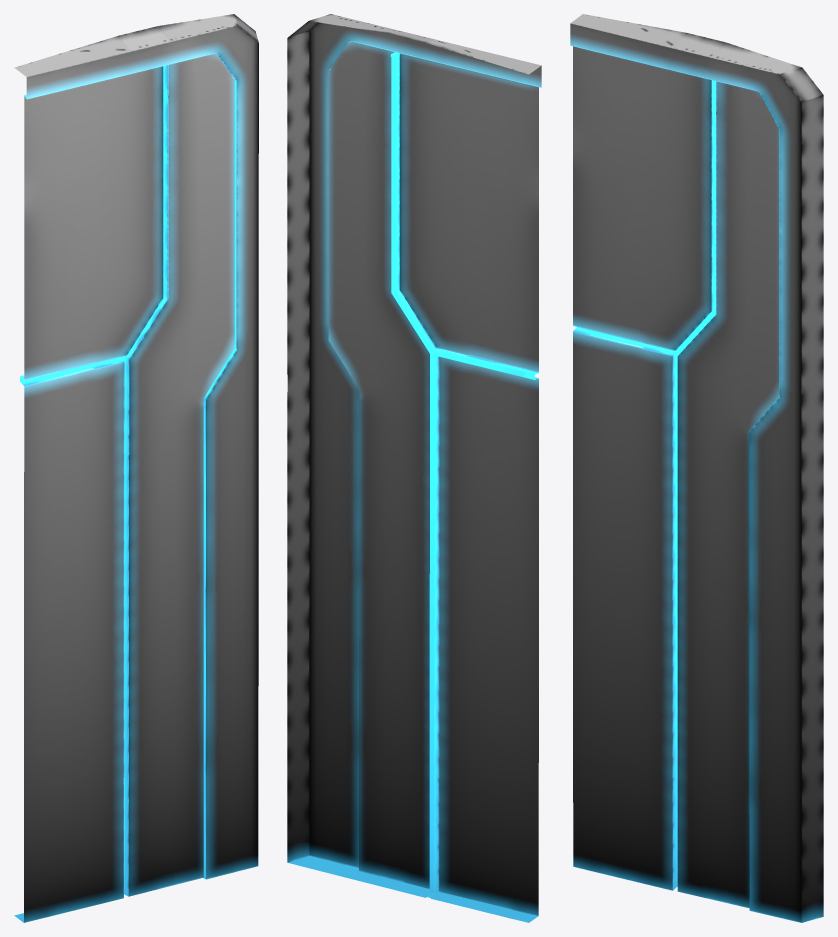
File: Door.glb
3 views of the same model, side by side, from view 1: azimuth 30°, elevation 25°; view 2: azimuth 150°, elevation 25°; view 3: azimuth 330°, elevation 25° (orthographic).
Parts seen in each view (by area): view 1: door; view 2: door; view 3: door.
Boxes of the visible parts, x1,y1,x2,y2 form: door: (14,14,258,922); door: (287,14,541,922); door: (570,14,823,922).
Size of the model in its own units: 0.77 by 2.6 by 0.0703.
Materials: 1 (1 with a texture image).
